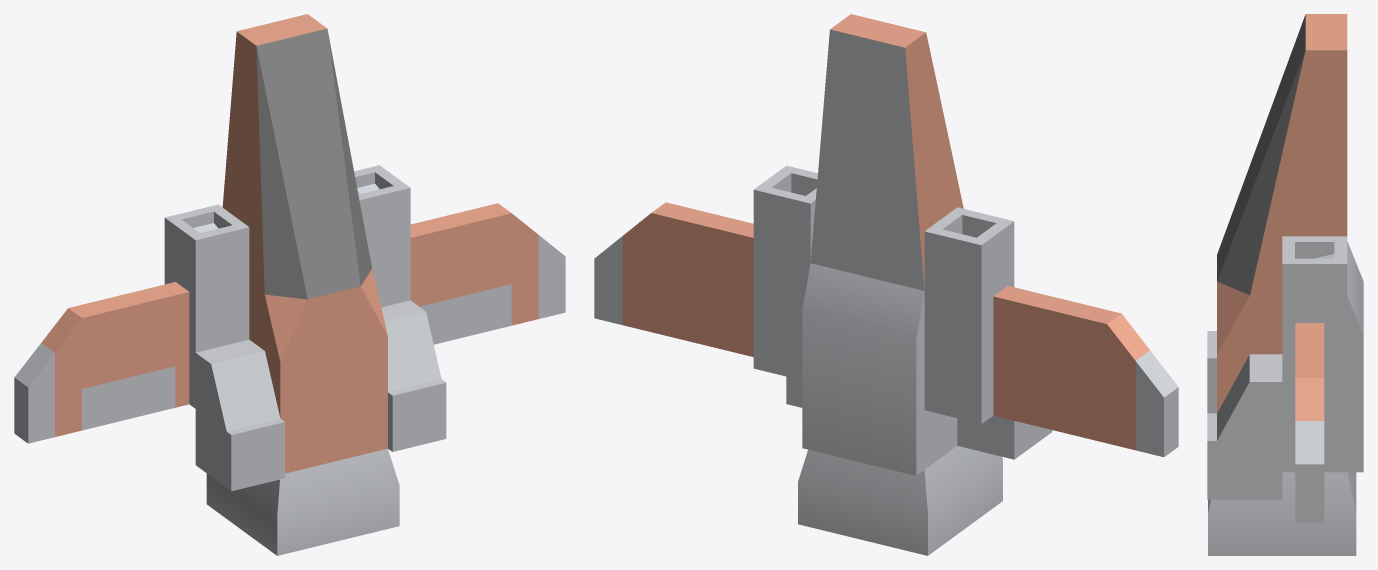
The model's file is spaceCraft1.glb.
3 renders of one model, left to right at view 1: azimuth 30°, elevation 25°; view 2: azimuth 150°, elevation 25°; view 3: azimuth 270°, elevation 25°, orthographic. The views are drawn at different scales.
Parts seen in each view (by area): view 1: spaceCraft1; view 2: spaceCraft1; view 3: spaceCraft1.
Part boxes in pixels (x1,y1,x2,y2): spaceCraft1: (14, 14, 565, 555); spaceCraft1: (594, 14, 1178, 555); spaceCraft1: (1207, 14, 1363, 555).
Size of the model in its own units: 22.22 by 18.56 by 5.34.
